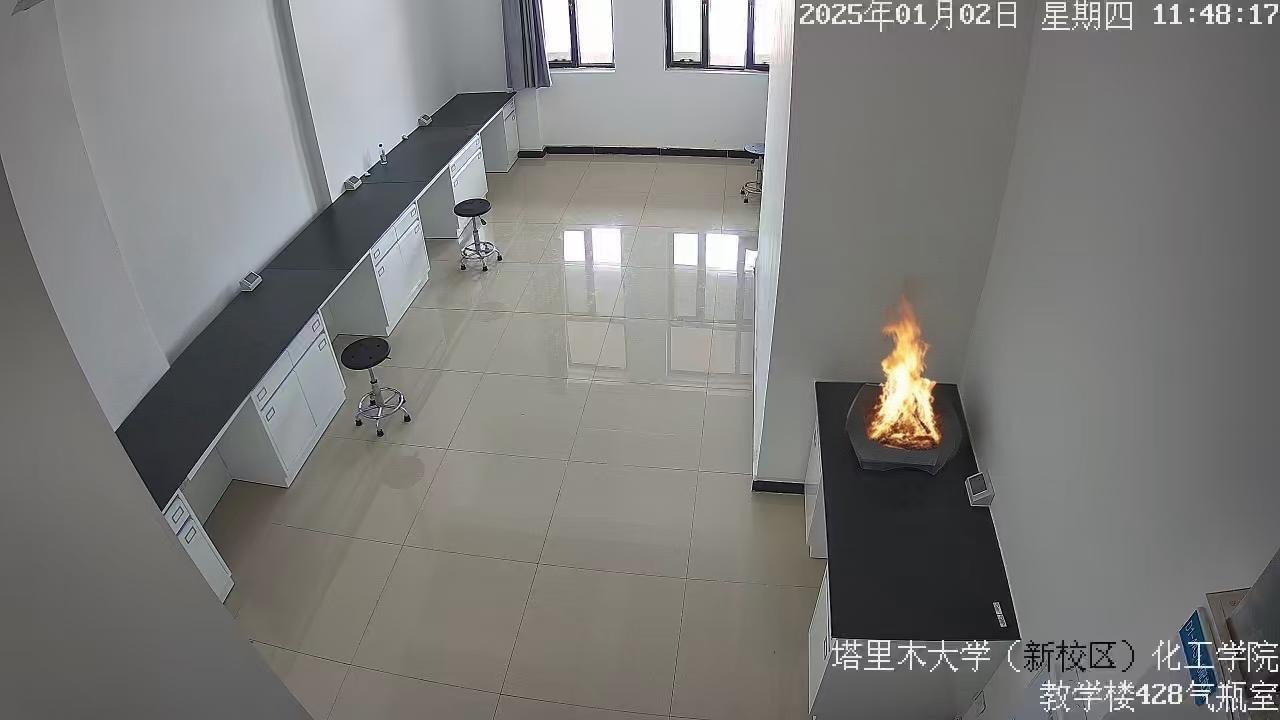fire: (830, 257, 1008, 474)
